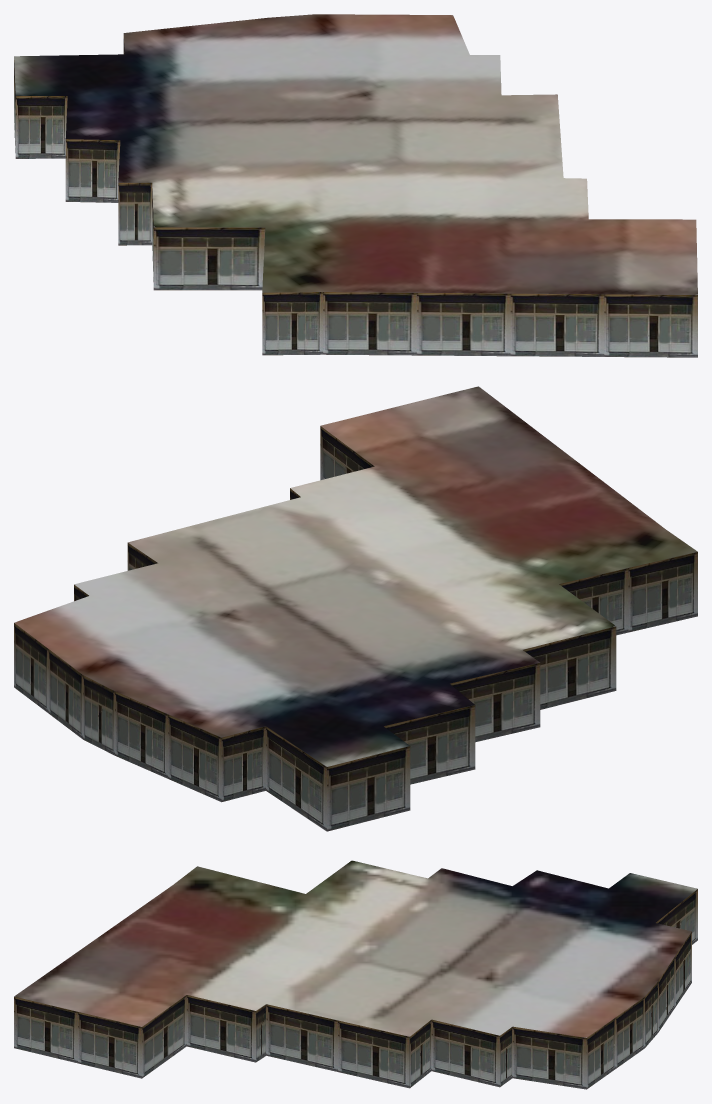
Rendered from T_1T8R84PGD7.dae.
The picture shows the model from 3 angles, top to bottom: view 1: azimuth 30°, elevation 25°; view 2: azimuth 150°, elevation 25°; view 3: azimuth 270°, elevation 25°; orthographic projection. The views are drawn at different scales.
Parts seen in each view (by area): view 1: SketchUp (×7); view 2: SketchUp (×12); view 3: SketchUp (×14).
Part boxes in pixels (x1,y1,x2,y2): SketchUp (×7): (14,14,697,357); SketchUp (×12): (14,386,697,831); SketchUp (×14): (14,860,697,1089).
Size of the model in its own units: 25.22 by 41.06 by 3.42.
2 materials, 2 textured.
